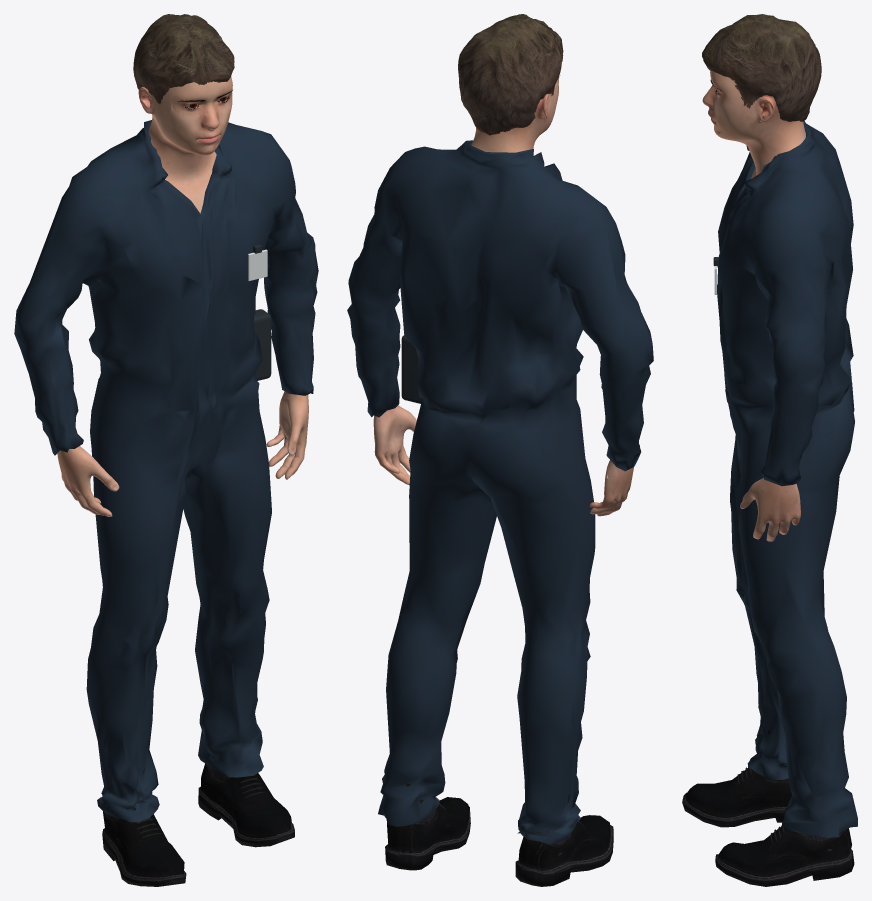
Rendered from premium-guard-drew.glb.
3 views of the same model, side by side, from view 1: azimuth 30°, elevation 25°; view 2: azimuth 150°, elevation 25°; view 3: azimuth 270°, elevation 25° (orthographic). The views are drawn at different scales.
Parts seen in each view (by area): view 1: male_casualsuit01, Drew | anatomical body, shoes03, short02, Guard | unbranded belt radio; view 2: male_casualsuit01, short02, shoes03, Drew | anatomical body, Guard | unbranded belt radio; view 3: male_casualsuit01, shoes03, short02, Drew | anatomical body.
Part boxes in pixels (left/top/right/bottom): male_casualsuit01: left=14, top=120, right=318, bottom=822; Drew | anatomical body: left=57, top=76, right=308, bottom=516; shoes03: left=102, top=763, right=294, bottom=886; short02: left=133, top=14, right=234, bottom=103; Guard | unbranded belt radio: left=253, top=309, right=271, bottom=380; male_casualsuit01: left=347, top=140, right=653, bottom=844; short02: left=458, top=14, right=563, bottom=135; shoes03: left=385, top=783, right=613, bottom=886; Drew | anatomical body: left=373, top=76, right=633, bottom=516; Guard | unbranded belt radio: left=401, top=335, right=422, bottom=403; male_casualsuit01: left=717, top=121, right=857, bottom=837; shoes03: left=682, top=730, right=854, bottom=886; short02: left=702, top=14, right=821, bottom=121; Drew | anatomical body: left=702, top=71, right=805, bottom=541.
Bounding box in the file's own units: 0.6748 × 1.81 × 0.3515.
11 materials, 11 textured.
